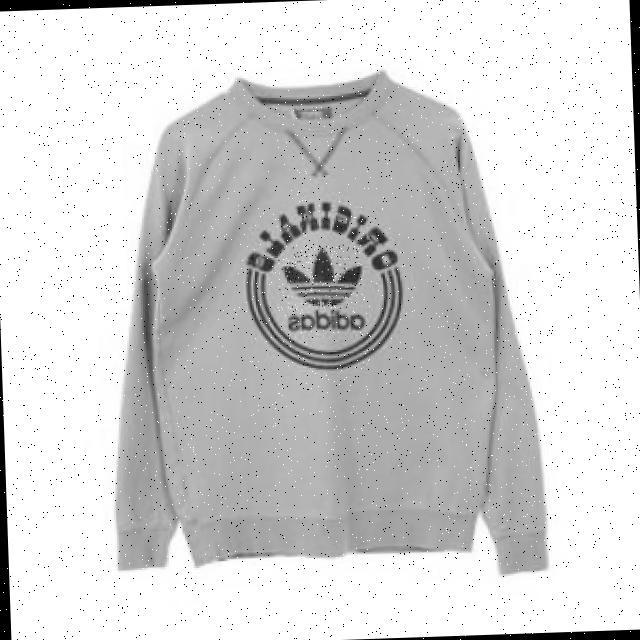Adidas: (278, 244, 363, 311)
